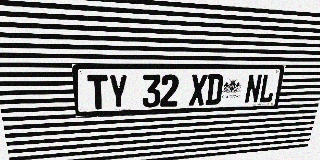2: (160, 74, 179, 107)
3: (142, 74, 161, 108)
D: (205, 74, 224, 105)
L: (258, 74, 277, 103)
N: (244, 74, 263, 104)
T: (87, 74, 108, 110)
X: (189, 74, 208, 106)
Y: (108, 74, 128, 109)
